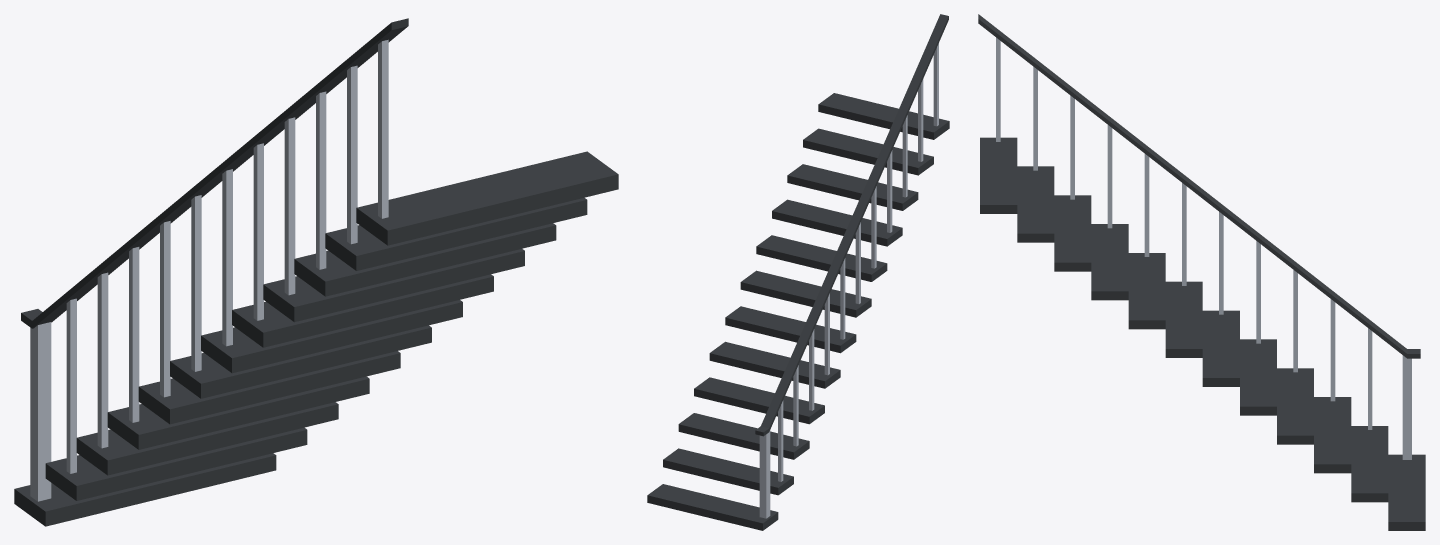
The model's file is Stairs4_C5.fbx.
3 renders of one model, left to right at view 1: azimuth 30°, elevation 25°; view 2: azimuth 150°, elevation 25°; view 3: azimuth 270°, elevation 25°, orthographic. The views are drawn at different scales.
Parts seen in each view (by area): view 1: Stairs4_C5; view 2: Stairs4_C5; view 3: Stairs4_C5.
Boxes of the visible parts, left/top/right/bottom form: Stairs4_C5: left=14, top=18, right=618, bottom=526; Stairs4_C5: left=647, top=14, right=949, bottom=530; Stairs4_C5: left=978, top=14, right=1425, bottom=530.
Size of the model in its own units: 125 by 391 by 351.
